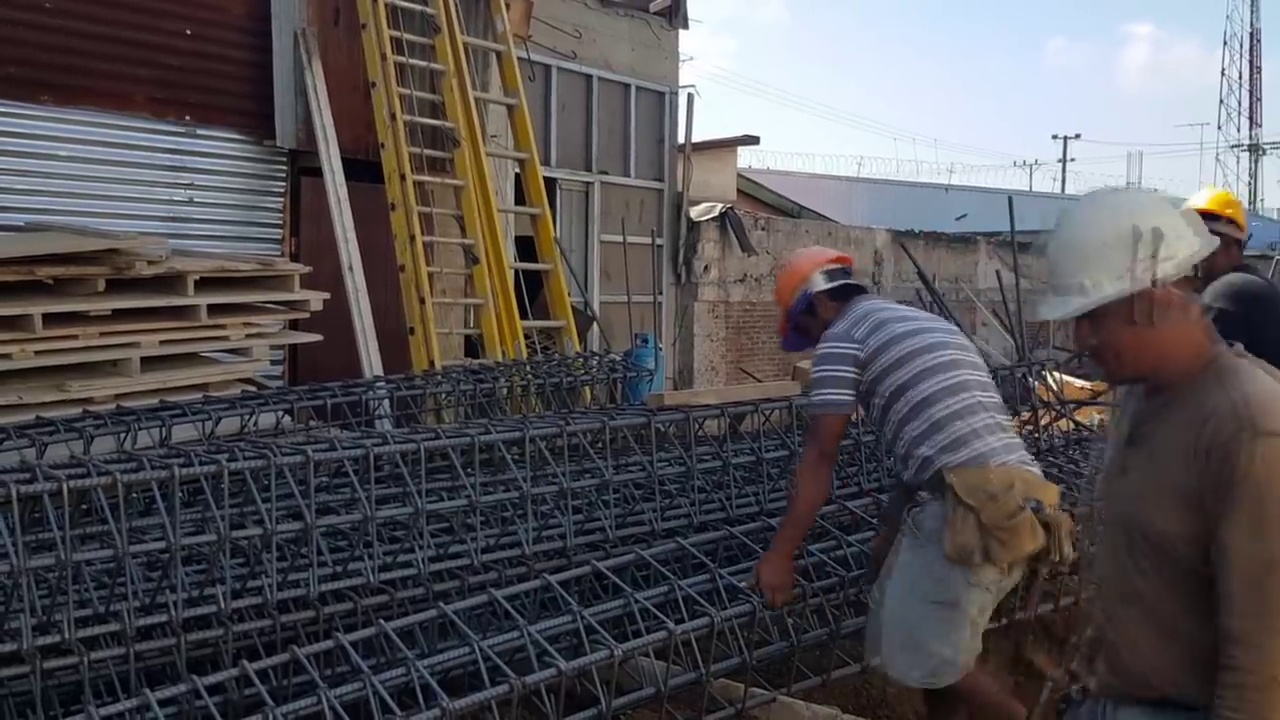helmet: (1032, 185, 1218, 324), (774, 245, 852, 336), (1200, 274, 1280, 329), (1183, 192, 1250, 235)
helmet-on: (1032, 185, 1220, 390), (771, 240, 870, 356), (1193, 192, 1250, 258)
person: (758, 240, 1065, 718), (1030, 183, 1280, 716), (1182, 187, 1268, 278)
